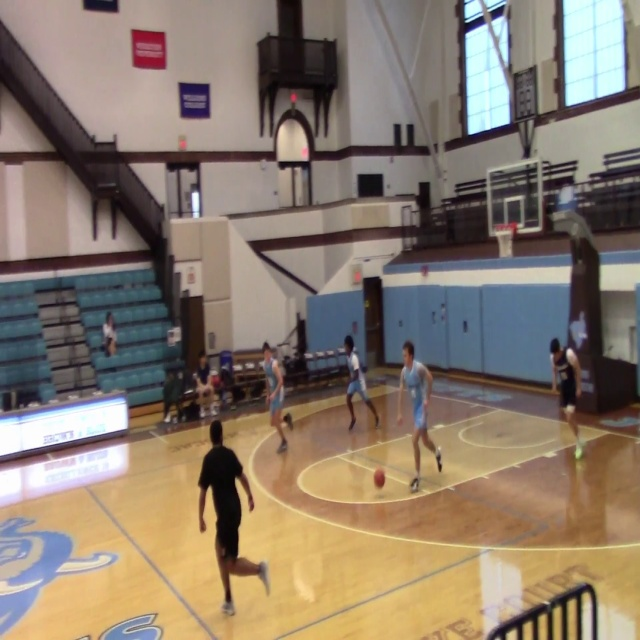Basketball: (374, 468, 385, 487), (282, 413, 292, 429)
